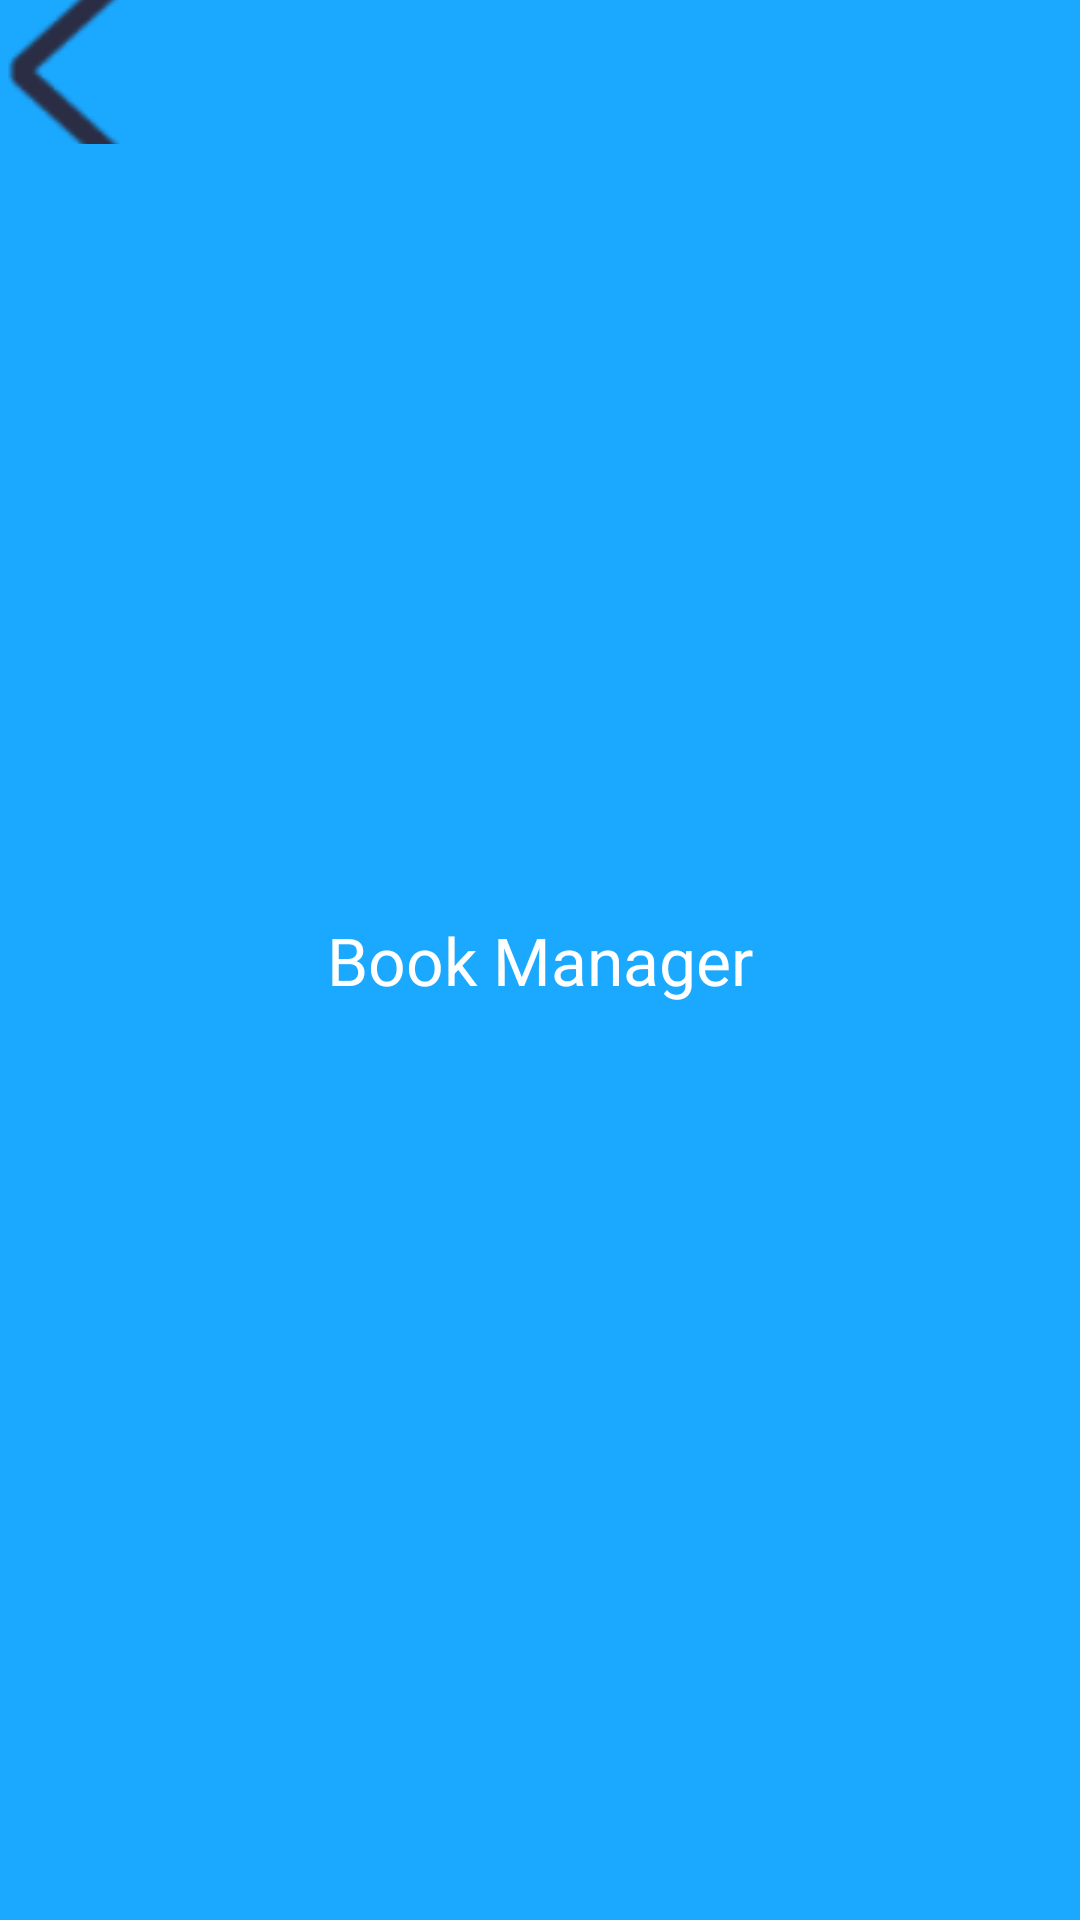

Where icons sit on this 1080×1920 app screen, as bbox=(x1, y1, x2, y2):
back: bbox=(9, 0, 119, 144)
